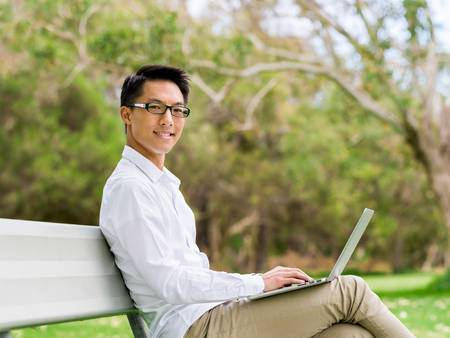F_shirt: (99, 145, 265, 336)
